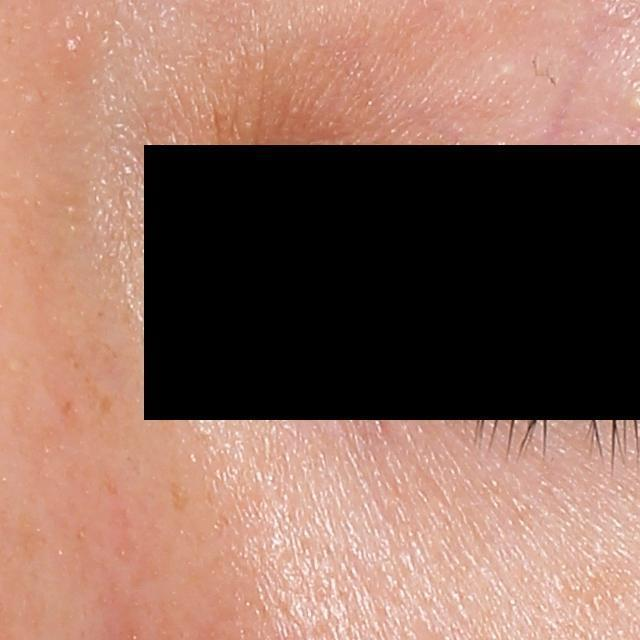comedo: (58, 30, 87, 62)
melasma: (163, 477, 192, 515), (92, 394, 116, 417)
